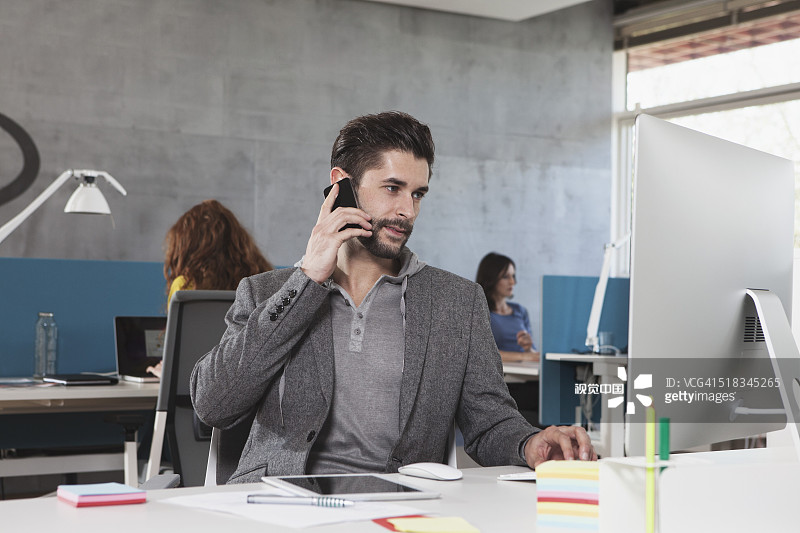calling: (295, 180, 377, 282)
no-phone: (516, 415, 600, 474)
